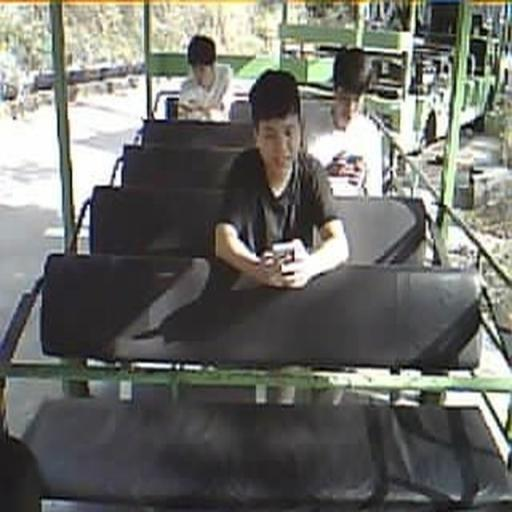persona: (212, 68, 350, 292), (307, 46, 386, 199), (176, 34, 234, 122)
